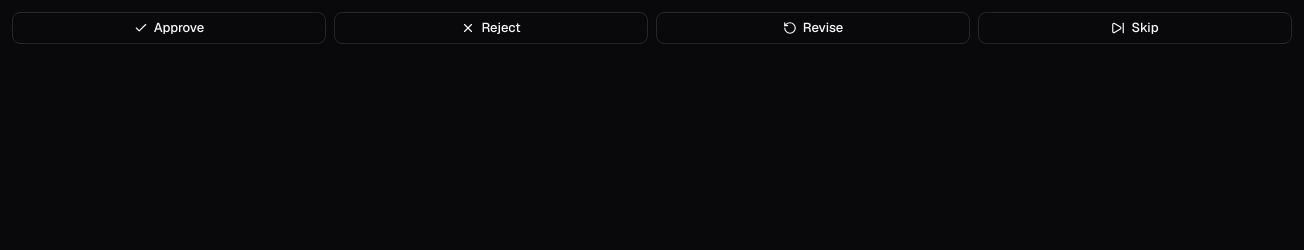
Test: ReviewActions feedback_category required (Loop 8 close) › Confirm button is disabled when no issue is selected (Reject)
The image size is (1304, 250).
Click the button "Reject": (491, 28) [334,12,648,44]
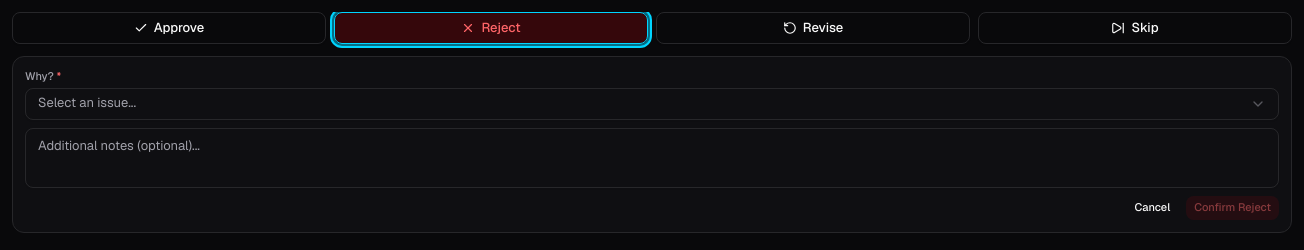
expect the button "Confirm Reject" is disabled: met, box [1186,196,1279,220]
